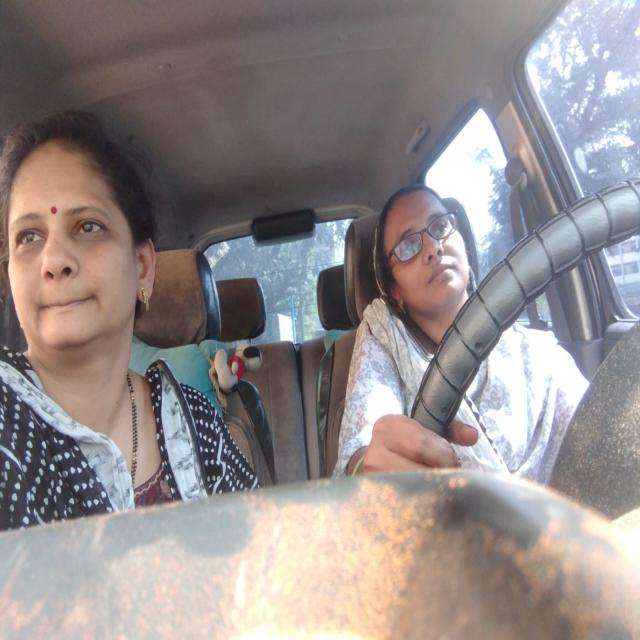person: (1, 130, 158, 350), (378, 191, 472, 298)
